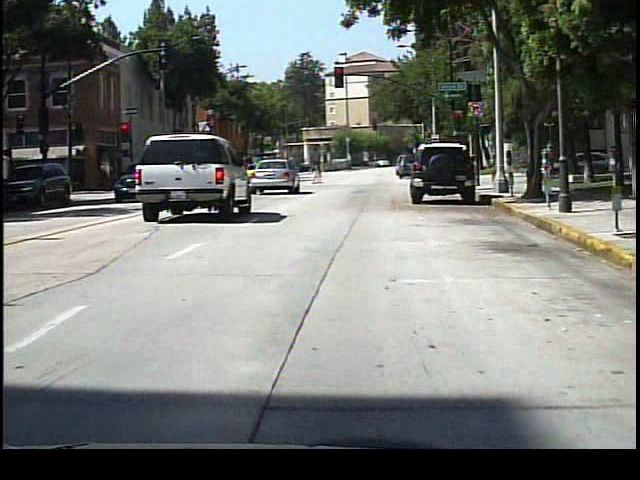person: (540, 140, 559, 184), (460, 152, 477, 184), (311, 156, 328, 186)
